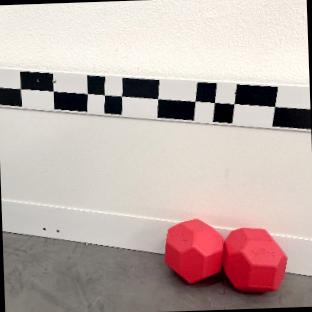V5_RED: (162, 217, 289, 293), (223, 227, 287, 292), (165, 219, 222, 283)
